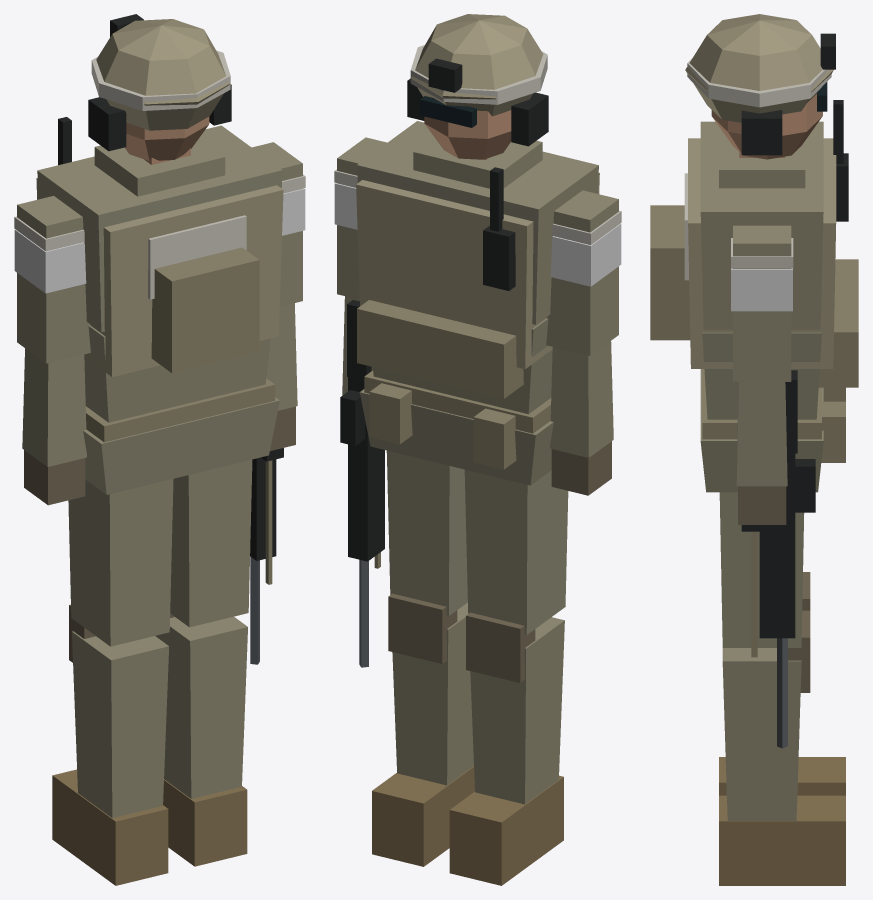
The model's file is soldier_mod_rifle_lod0.glb.
3 renders of one model, left to right at view 1: azimuth 30°, elevation 25°; view 2: azimuth 150°, elevation 25°; view 3: azimuth 270°, elevation 25°, orthographic.
Visible parts, largest first — view 1: mod_rifle_lod0_static; view 2: mod_rifle_lod0_static; view 3: mod_rifle_lod0_static.
Part boxes in pixels (x1,y1,x2,y2): mod_rifle_lod0_static: [14, 14, 305, 885]; mod_rifle_lod0_static: [334, 14, 621, 885]; mod_rifle_lod0_static: [650, 14, 858, 885].
Bounding box in the file's own units: 0.593 × 1.81 × 0.41.
